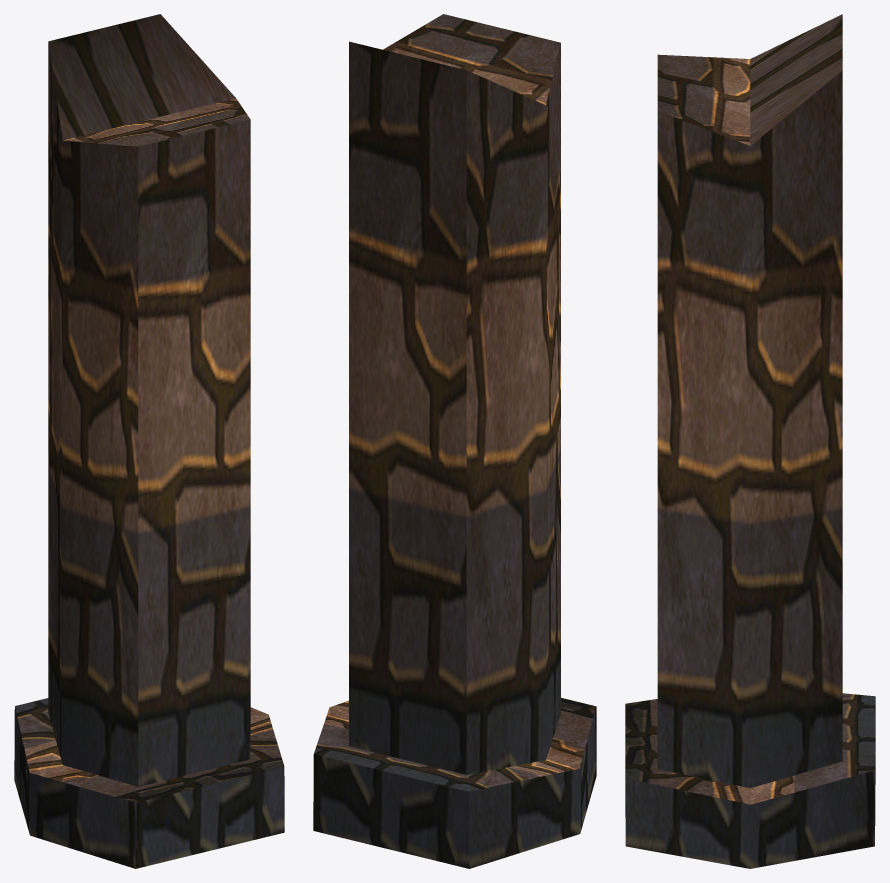
File: corner_column.FBX
3 renders of one model, left to right at view 1: azimuth 30°, elevation 25°; view 2: azimuth 150°, elevation 25°; view 3: azimuth 270°, elevation 25°, orthographic. The views are drawn at different scales.
Parts seen in each view (by area): view 1: Box064; view 2: Box064; view 3: Box064.
Boxes of the visible parts, box(x1,y1,x2,y2) form: Box064: box(14, 14, 284, 868); Box064: box(313, 14, 596, 868); Box064: box(625, 14, 875, 868).
Bounding box in the file's own units: 452 × 1348 × 399.
1 material, 1 textured.
